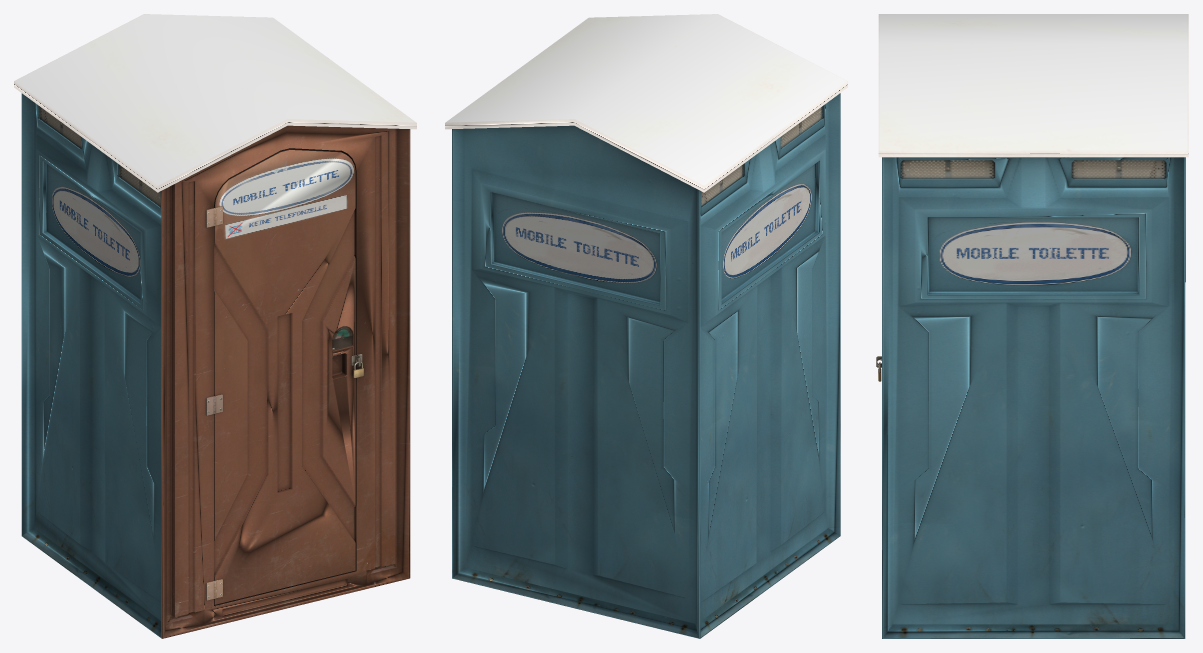
File: toilette.fbx
The picture shows the model from 3 angles, left to right: view 1: azimuth 30°, elevation 25°; view 2: azimuth 150°, elevation 25°; view 3: azimuth 270°, elevation 25°; orthographic projection. The views are drawn at different scales.
Parts seen in each view (by area): view 1: Mesh; view 2: Mesh; view 3: Mesh.
Boxes of the visible parts, <box> form: Mesh: <box>14,14,416,638</box>; Mesh: <box>445,14,847,638</box>; Mesh: <box>876,14,1188,638</box>.
Size of the model in its own units: 121 by 219 by 117.
